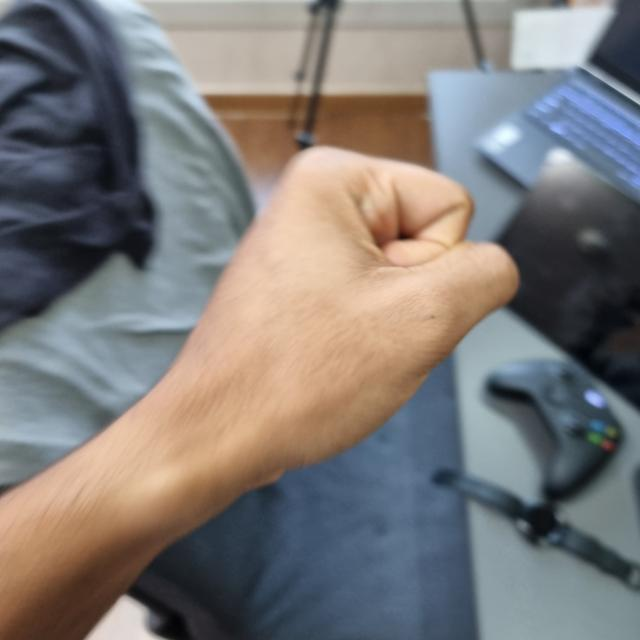Rock: (143, 152, 514, 484)
